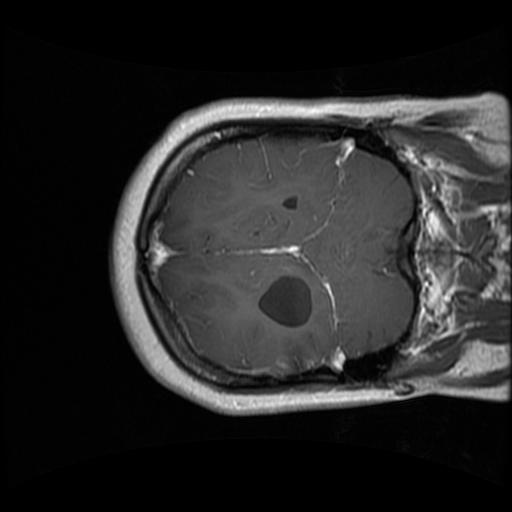glioma: (257, 277, 311, 328)
